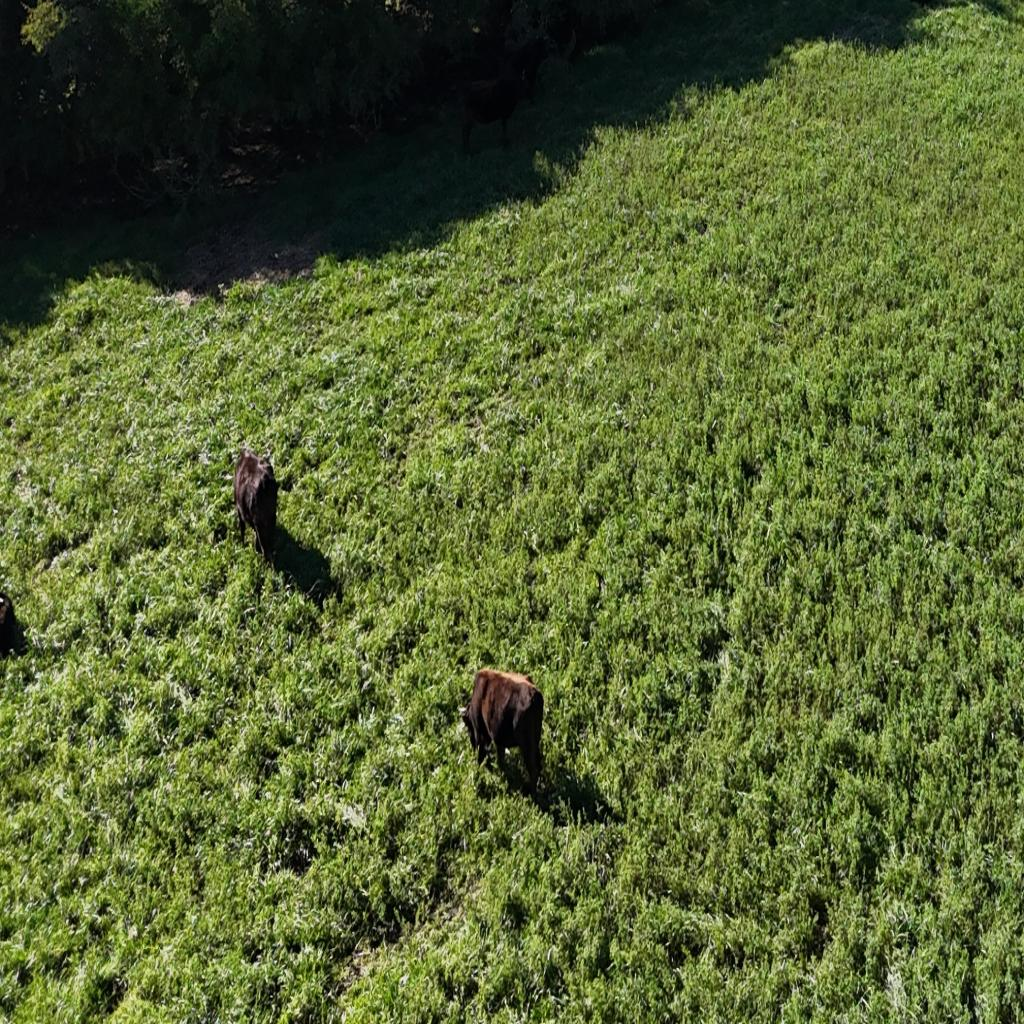cow: (459, 665, 547, 793), (460, 70, 526, 156), (232, 447, 278, 561), (504, 35, 552, 103), (0, 593, 20, 659)
